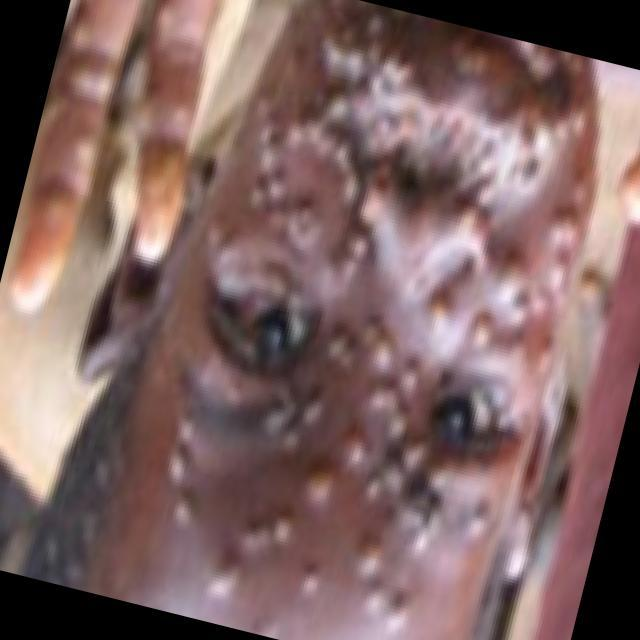Eczema: (159, 13, 588, 635)
